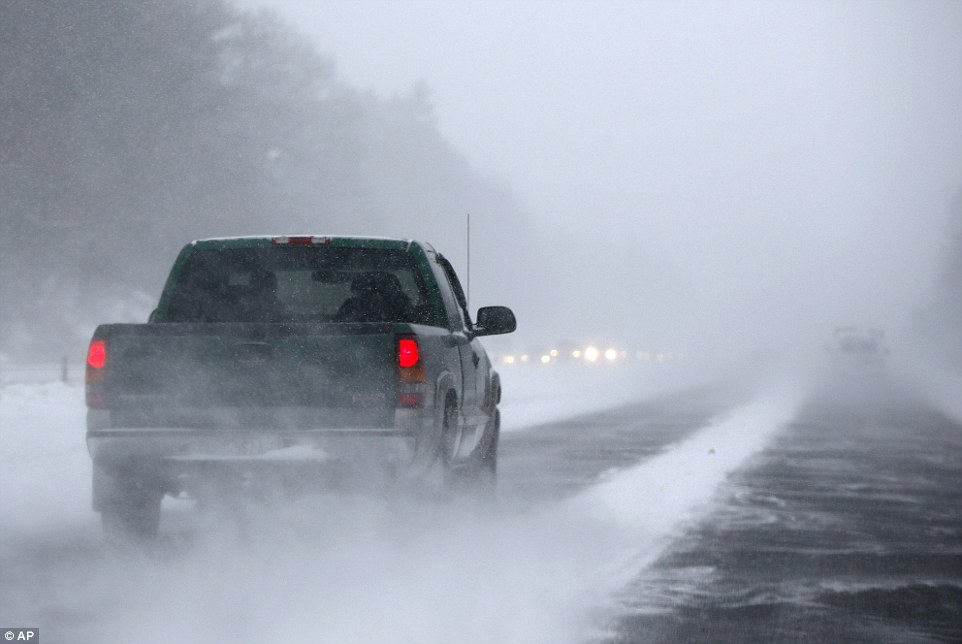truck: (81, 228, 517, 540)
